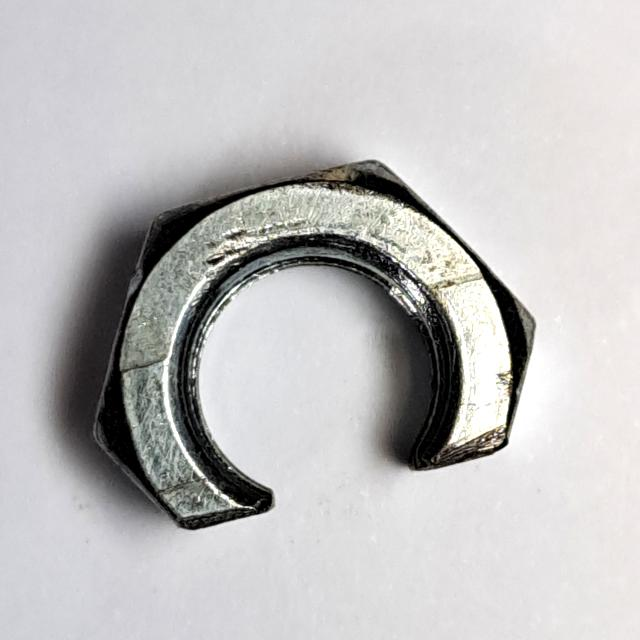Fracture: (81, 143, 555, 545)
